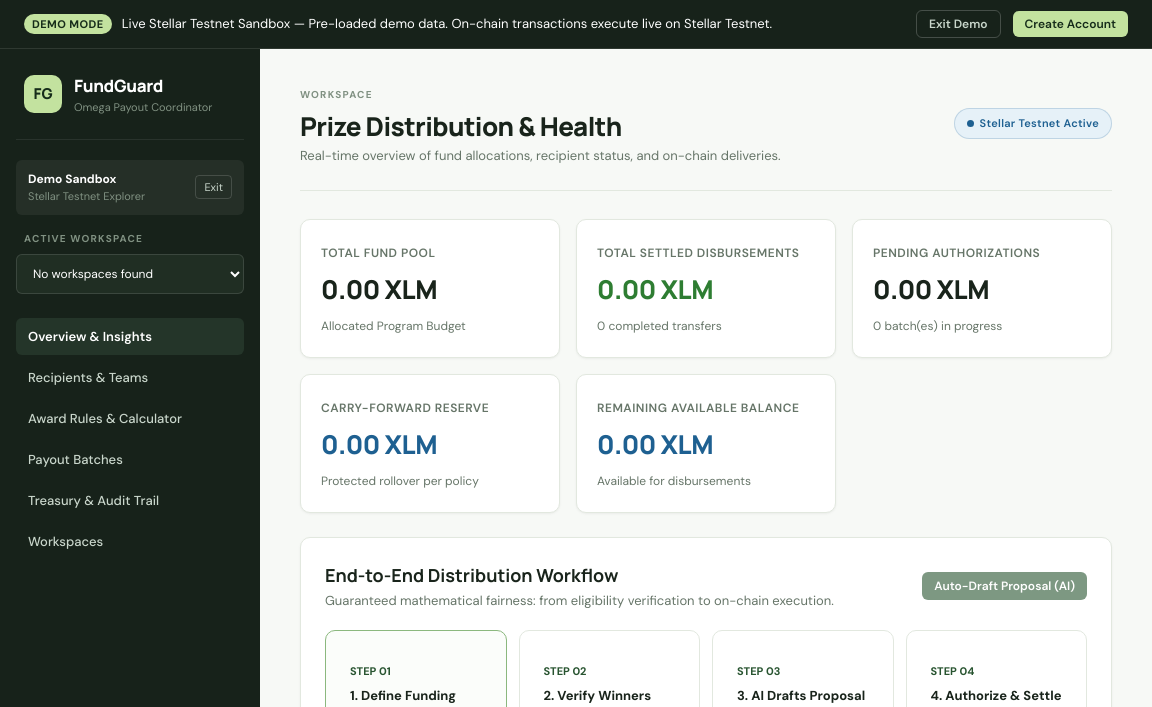
Test case: FundGuard Dashboard UI › navigates to Treasury & Audit Trail tab and displays ledger breakdown
Click the button "Treasury & Audit Trail" at point(130, 500), box [16,482,244,518]
(page scrolled)
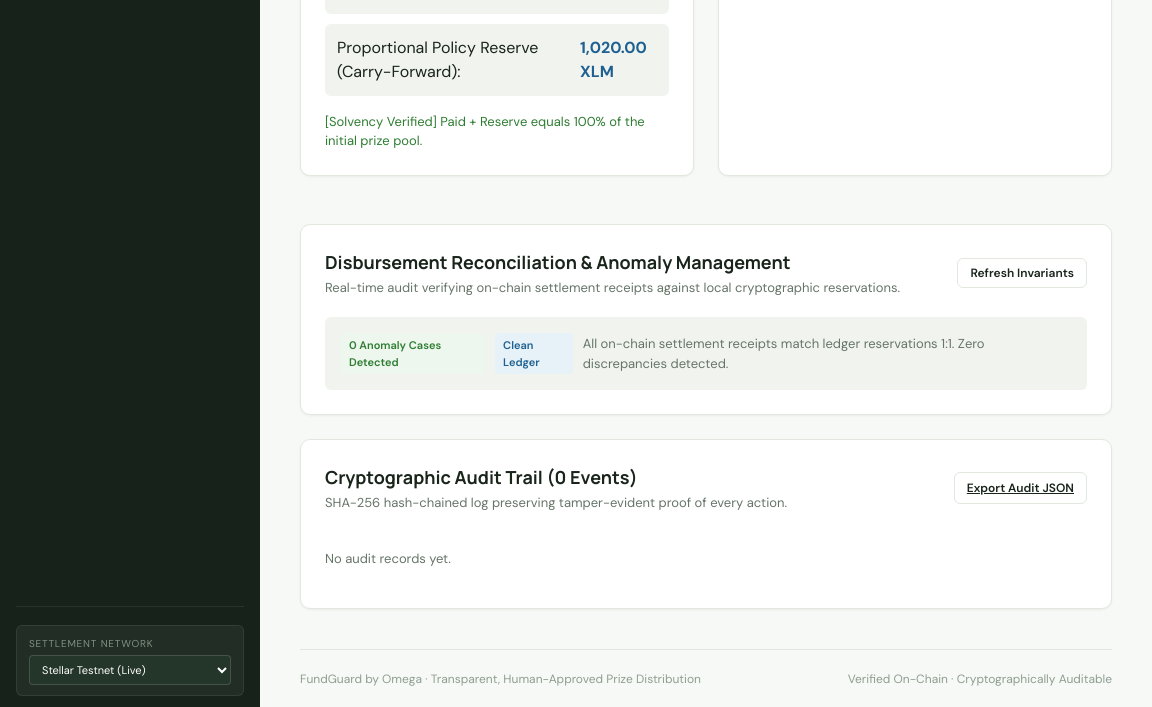
Now the heading "Cryptographic Audit Trail (0 Events)" is shown, box [325,465,638,489]
